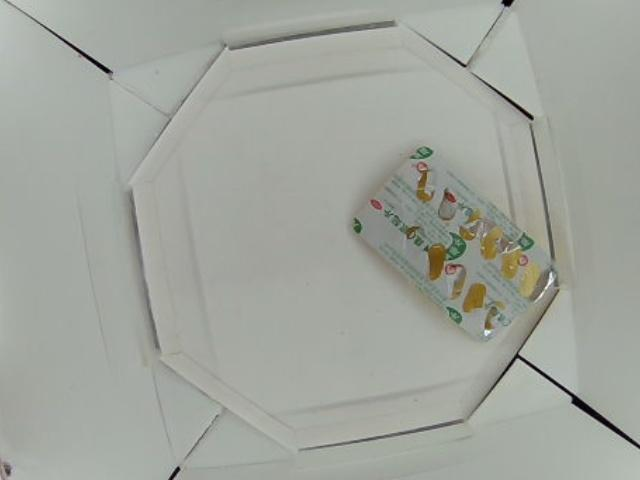Medicine: (350, 143, 561, 338)
